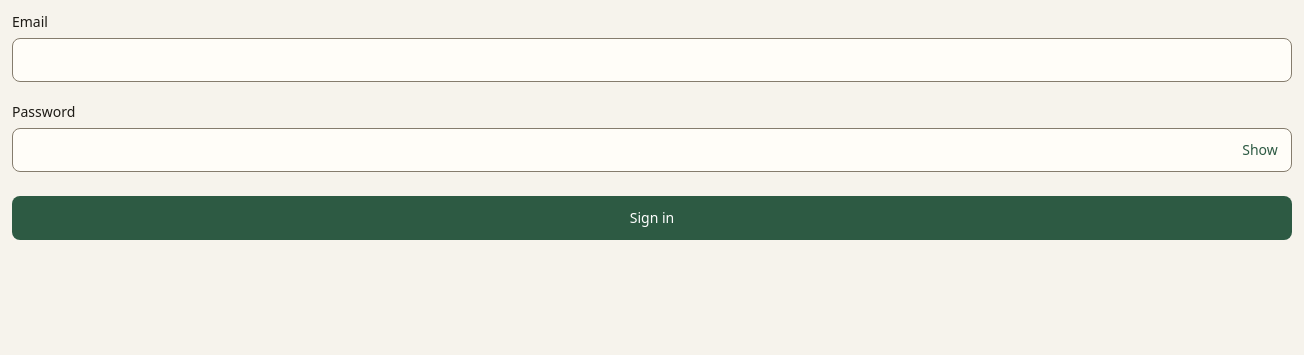
SignInForm › explains rate limiting with the wait time
This screenshot has width=1304, height=355.
Type "ada@example.com" into the field labelled "Email" at [652, 60], box left=12, top=38, right=1292, bottom=82
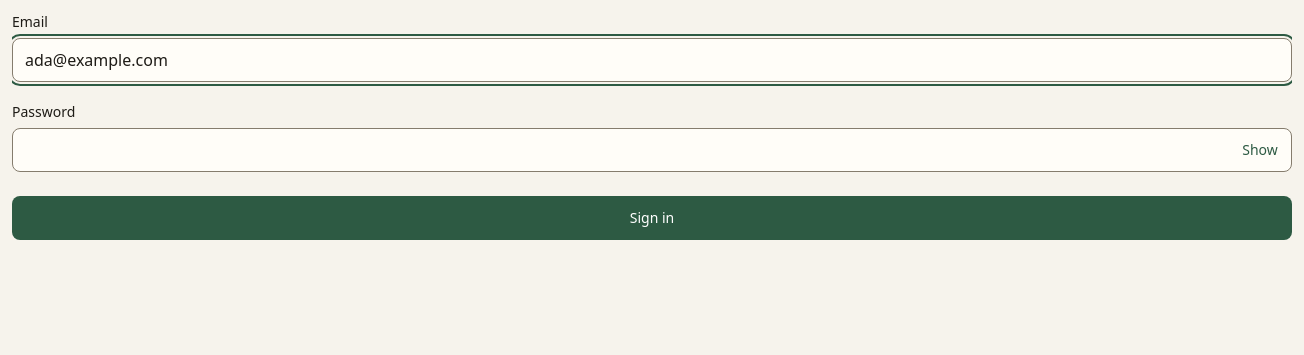
Type "secret passphrase" into the password field labelled "Password" at [652, 150], box left=12, top=128, right=1292, bottom=172
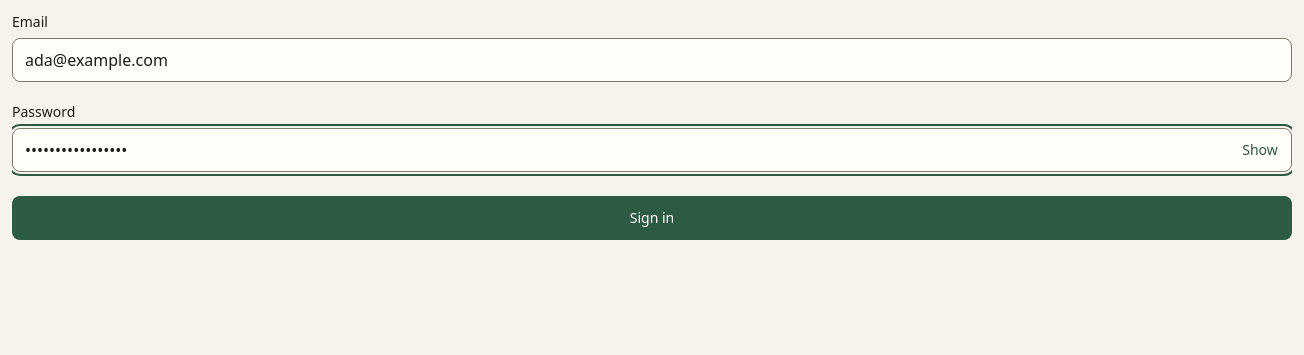
Click the button "Sign in" at [652, 218], box left=12, top=196, right=1292, bottom=240
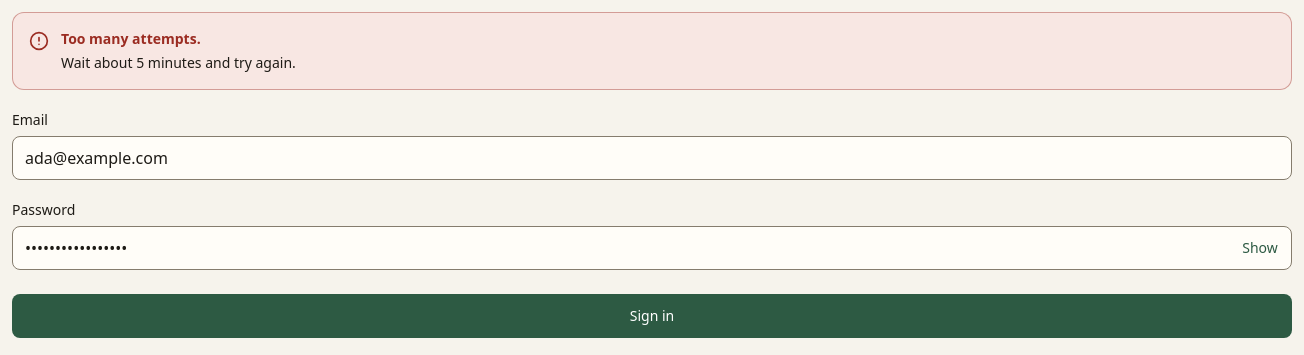
Now the message shows "Wait about 5 minutes", box left=61, top=53, right=296, bottom=72
